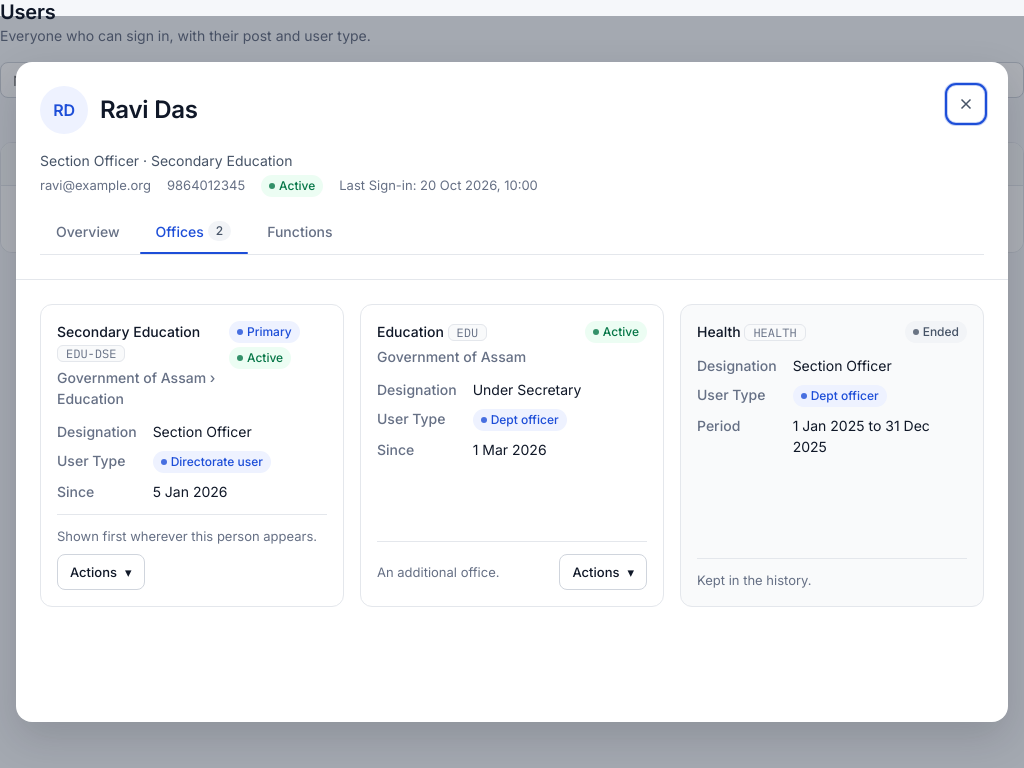
Test case: Offices (decision 34) › a reader with users.view only gets Functions and Overrides and no Add Office
The image size is (1024, 768).
Click the button "Actions ▾" below "EDU-DSE" at x=101, y=572, box [57,554,144,590]
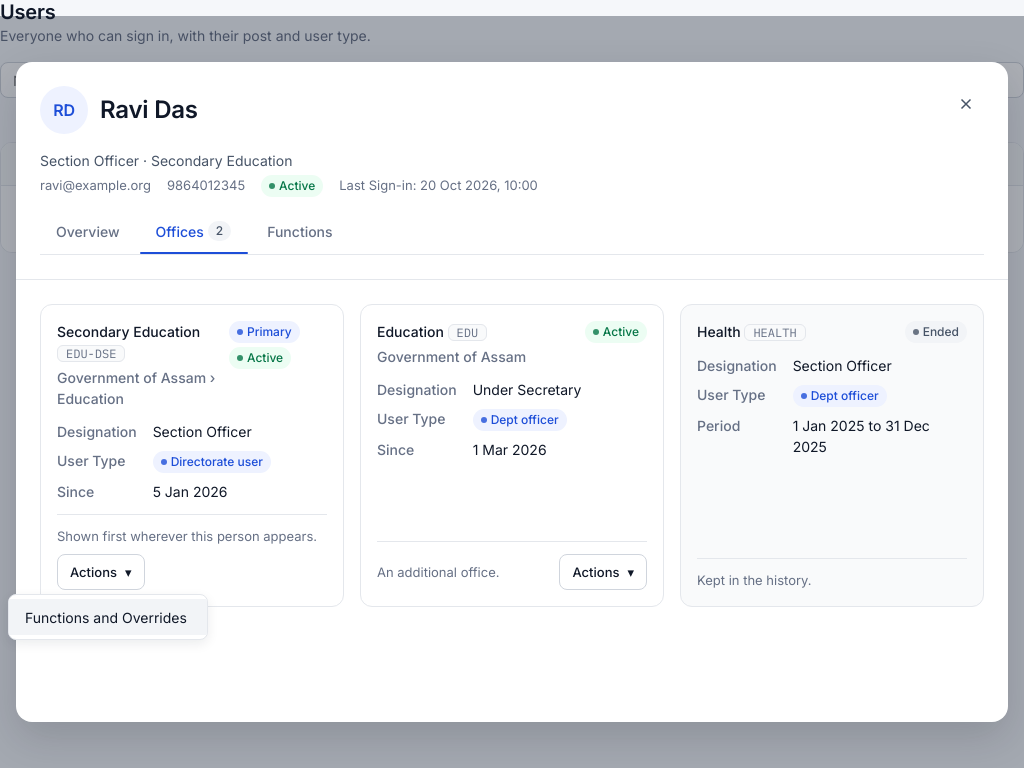
Check: the menu items read "Functions and Overrides", in this order, box [9,599,207,635]
